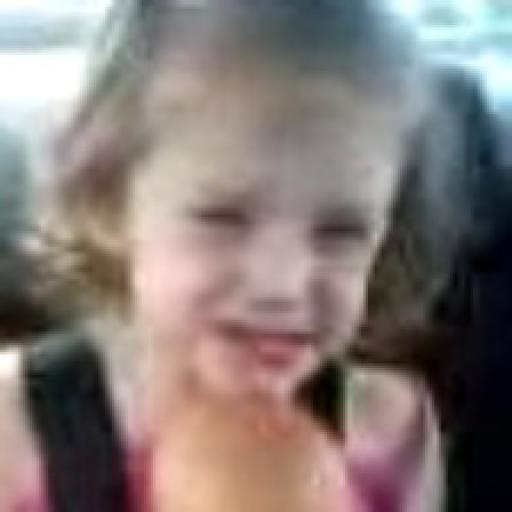Autism: (110, 49, 415, 412)
